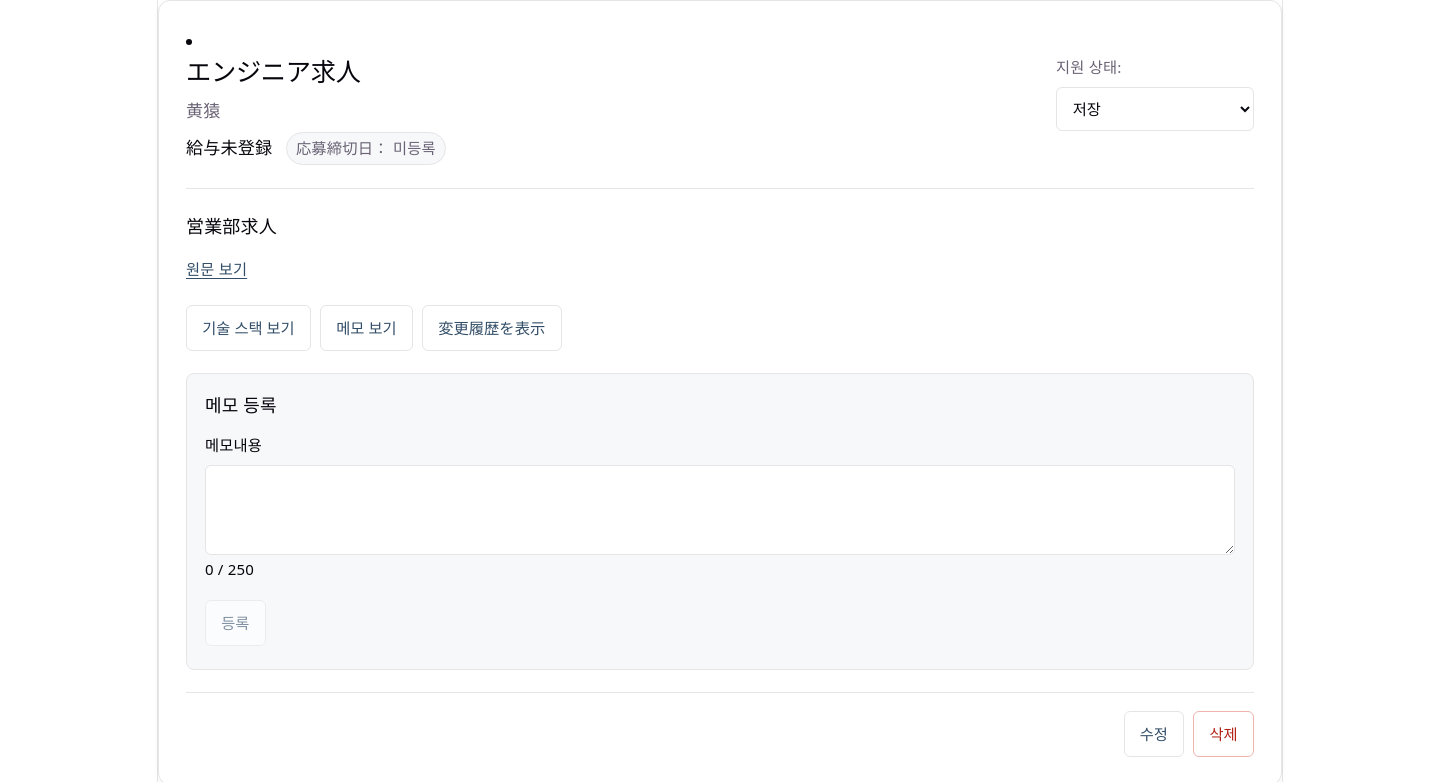
Test: status › 応募状態の変更履歴を表示できる
The width and height of the screenshot is (1440, 782).
Step 1. Click the button "変更履歴を表示" → (492, 328), box [422,305,562,351]
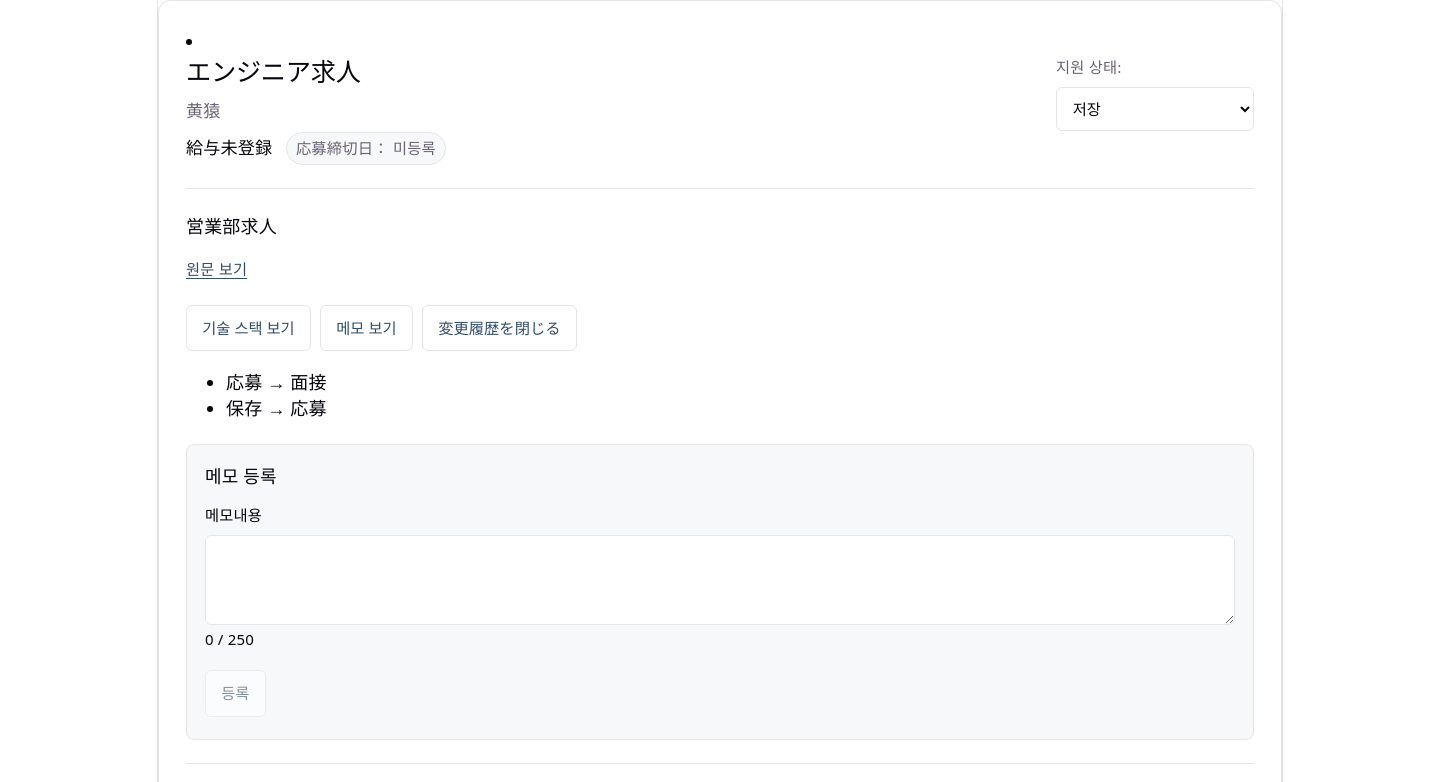
Now the list item "応募 → 面接" is shown, box [226,370,327,394]
Now the list item "保存 → 応募" is shown, box [226,396,327,420]
